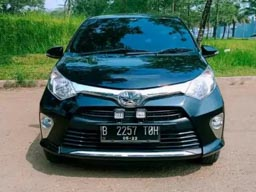plat: (98, 125, 160, 135)
